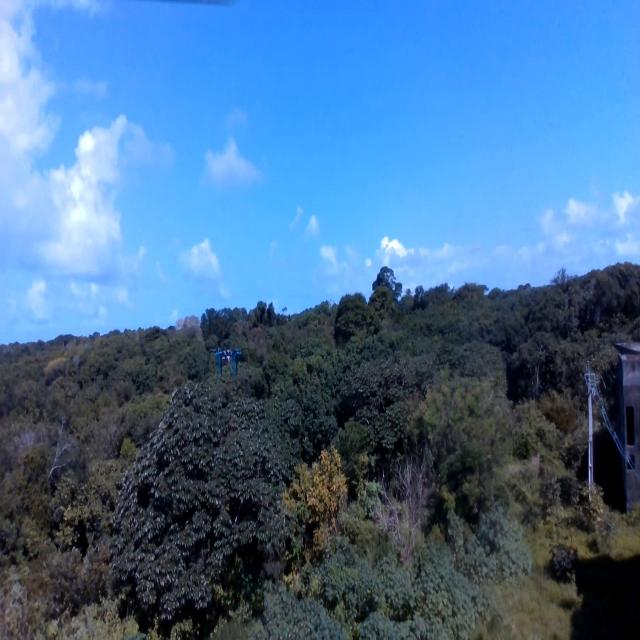-uav-: (212, 336, 244, 388)
